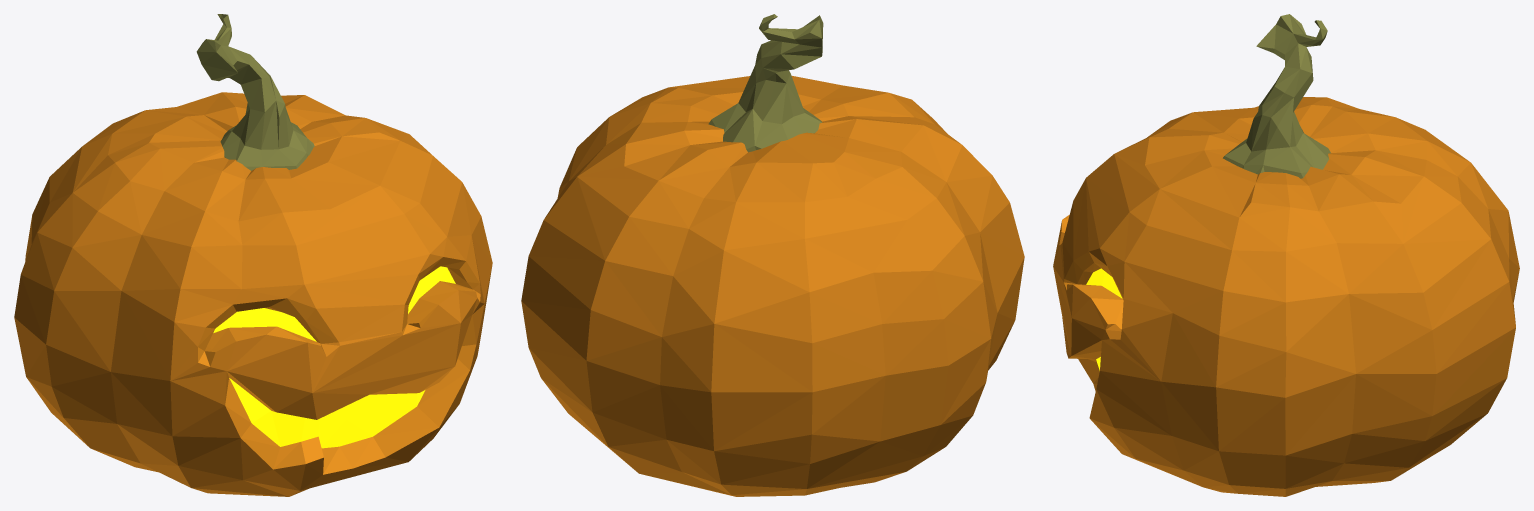
Rendered from Pumpkin_002.fbx.
3 views of the same model, side by side, from view 1: azimuth 30°, elevation 25°; view 2: azimuth 150°, elevation 25°; view 3: azimuth 270°, elevation 25° (orthographic). The views are drawn at different scales.
Parts seen in each view (by area): view 1: Pumpkin_002; view 2: Pumpkin_002; view 3: Pumpkin_002.
Part boxes in pixels (bbox=[...]): Pumpkin_002: bbox=[14, 14, 492, 496]; Pumpkin_002: bbox=[521, 14, 1024, 496]; Pumpkin_002: bbox=[1053, 14, 1519, 496].
Size of the model in its own units: 0.5029 by 0.5003 by 0.4957.
